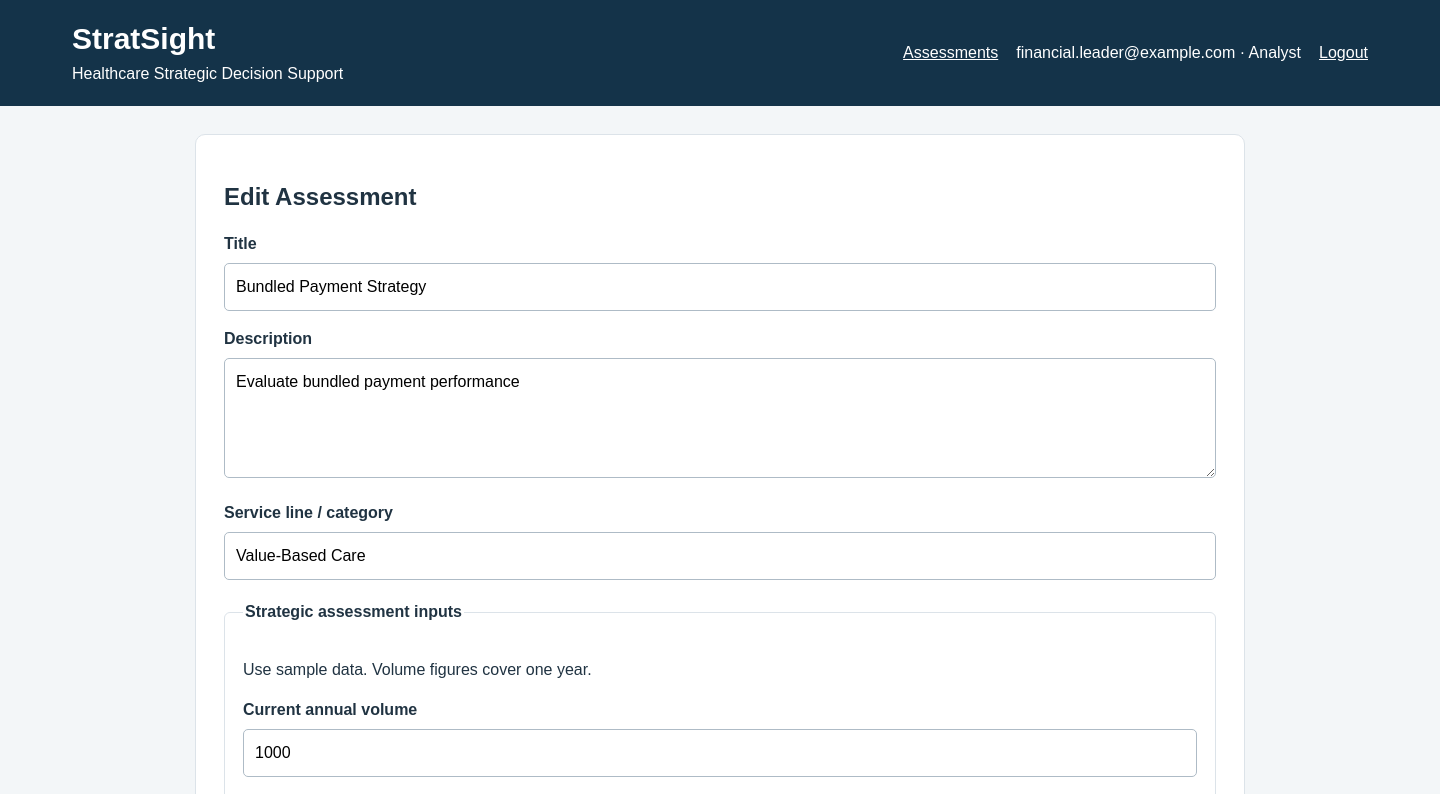
it: StratSight assessment interface › shows an API error when an edit cannot be saved
Replace the text in the field labelled "Title" with "Updated Financial Review": (720, 287) x1=224 y1=263 x2=1216 y2=311
(page scrolled)
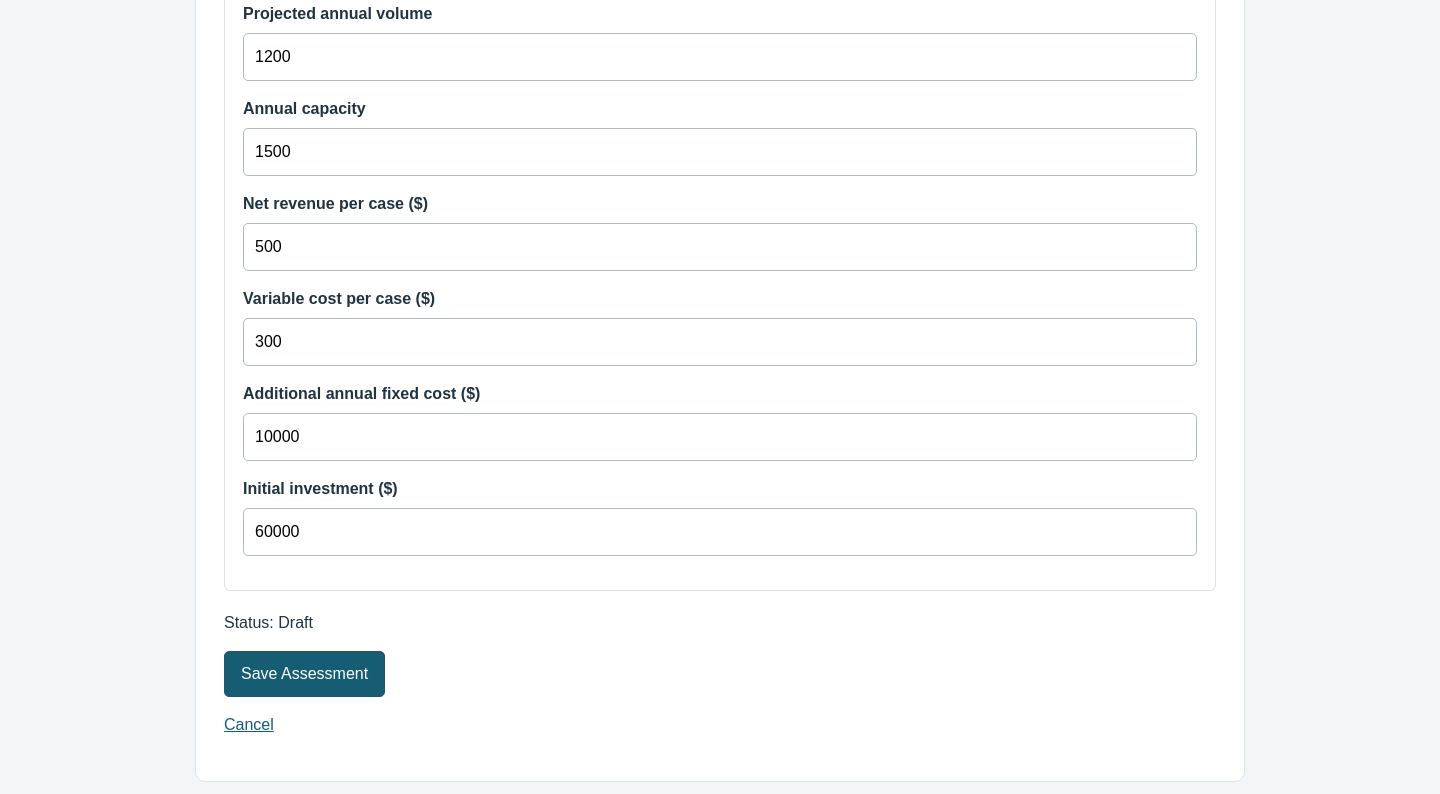
Click the button "Save Assessment": (305, 674) x1=224 y1=651 x2=385 y2=697
(page scrolled)
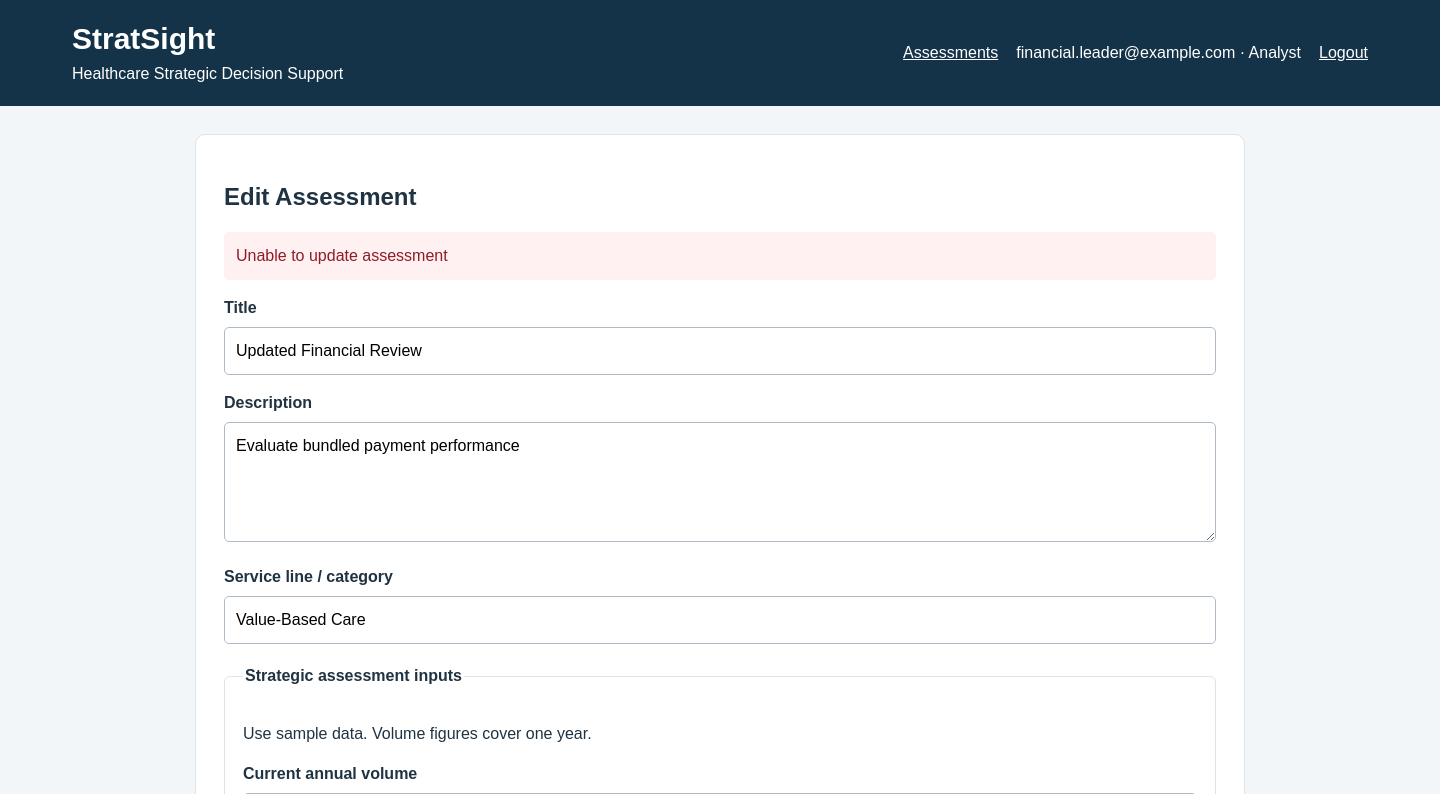
Expected: the message reads "Unable to update assessment", x1=236 y1=247 x2=448 y2=264
